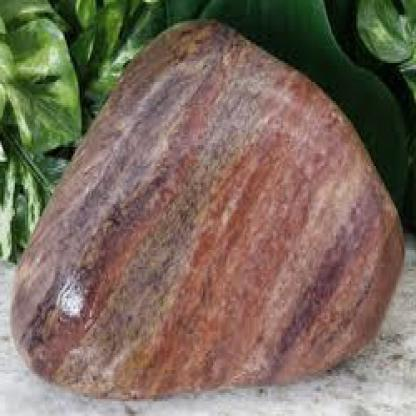Metamorphic_Quartize: (6, 13, 402, 397)
